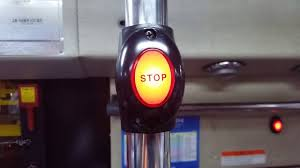bell: (117, 25, 187, 134)
